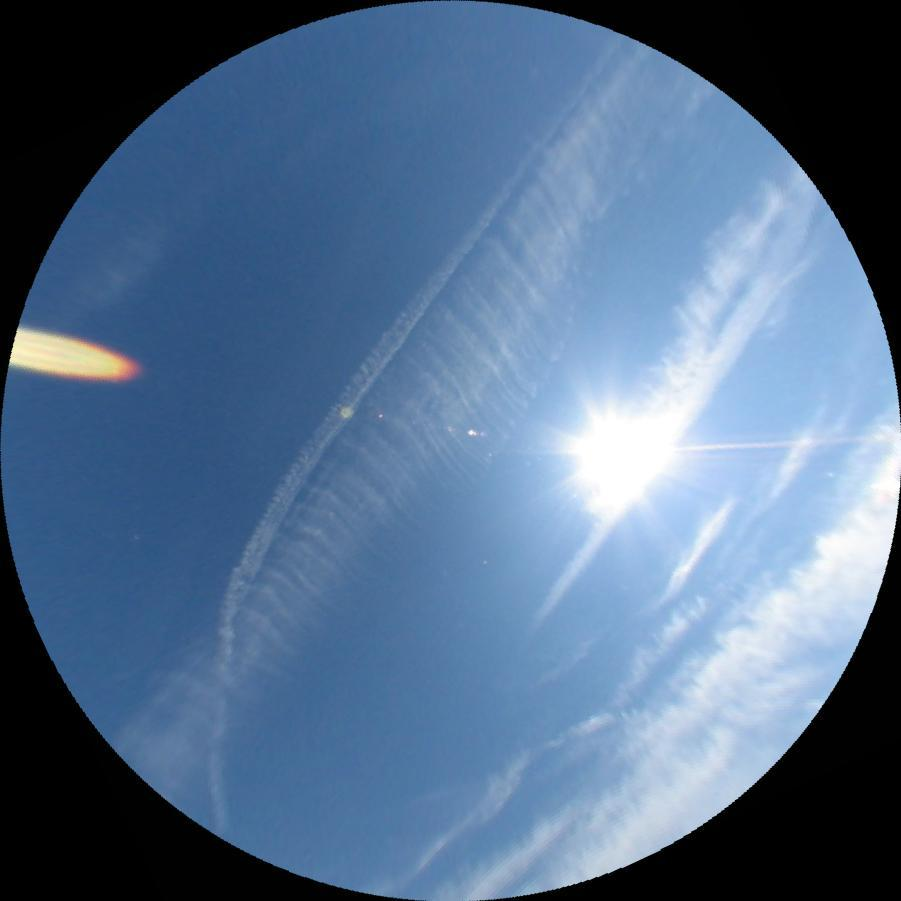contrail veryold: (102, 31, 753, 836), (124, 0, 627, 842), (524, 169, 837, 654), (569, 165, 793, 528)
parasite: (663, 433, 865, 456)
sun: (580, 417, 669, 496)
